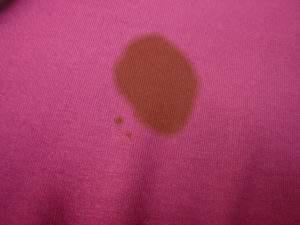gun: (110, 34, 196, 133)
